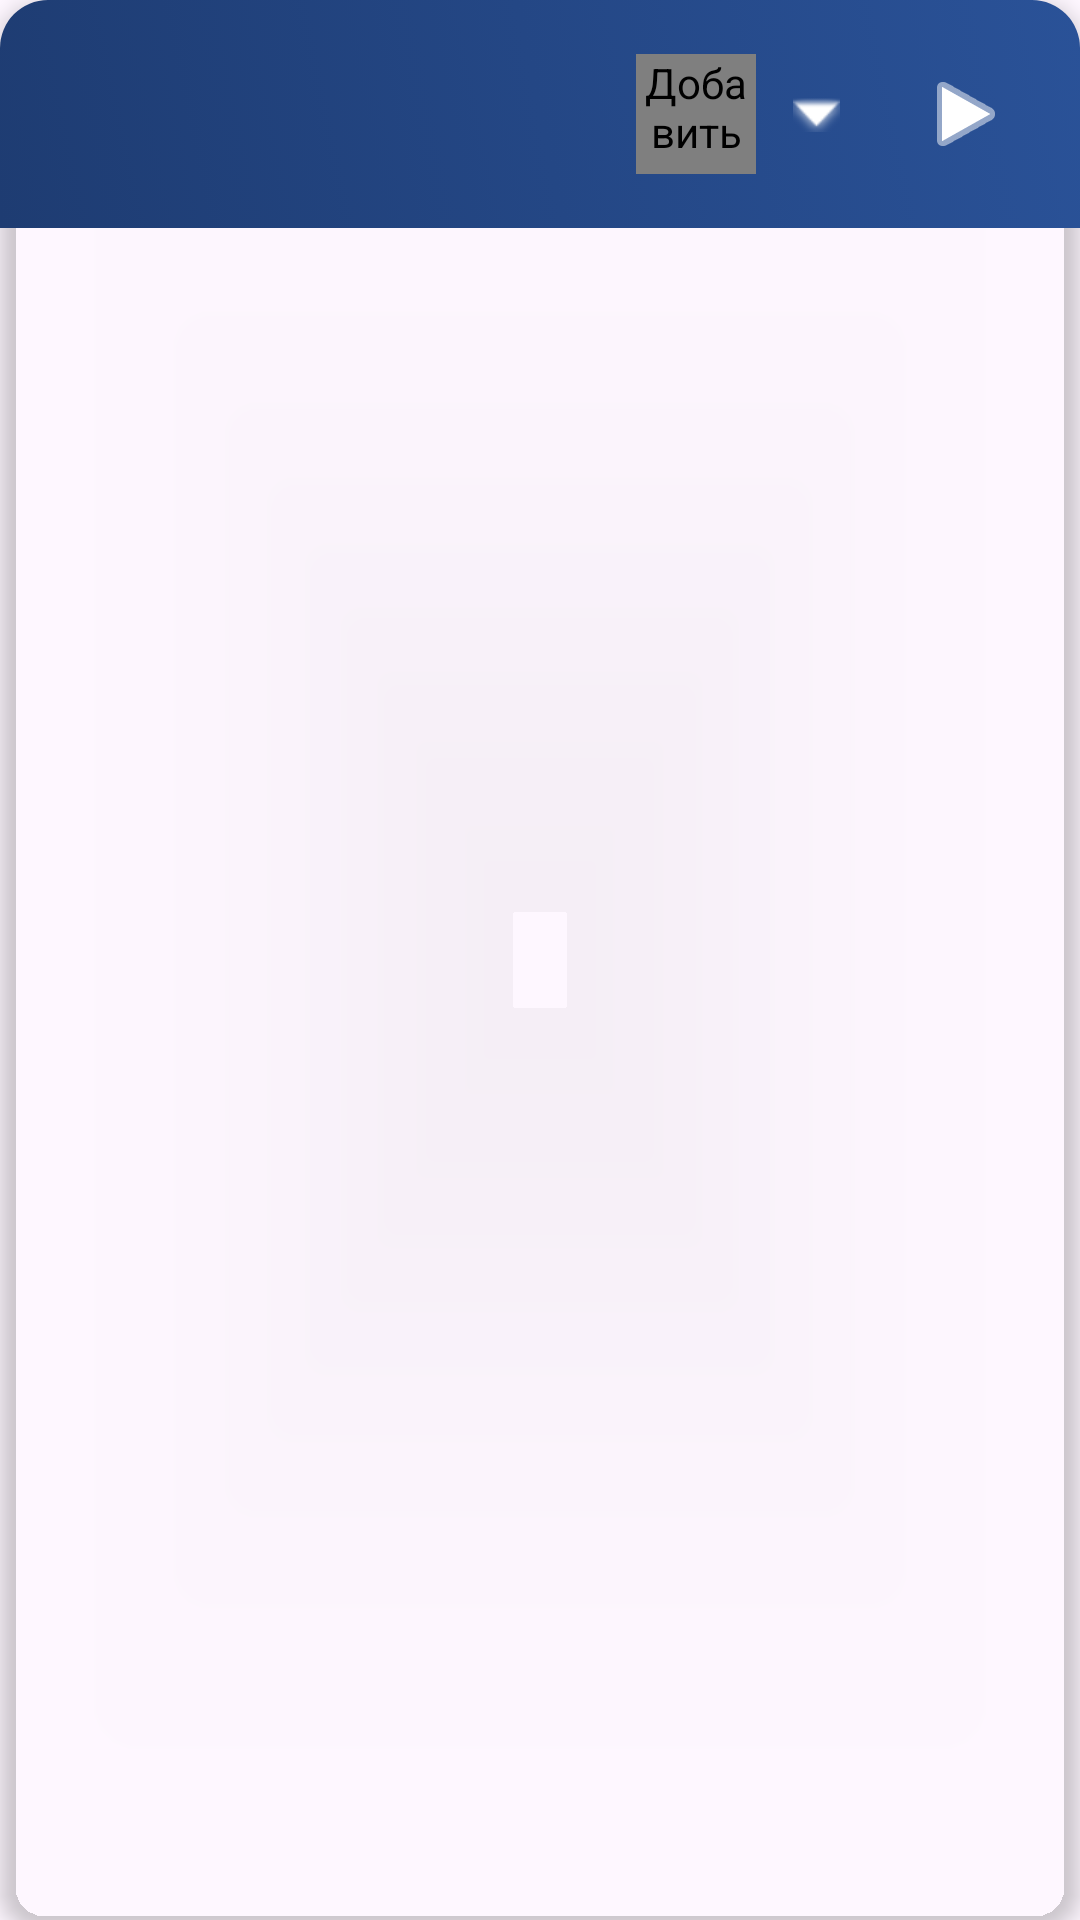

Named icons in this screenshot (1080w x 1920h) and their bounding boxes, BBox(x1, y1, x2, y2):
Воспроизведение: BBox(937, 82, 995, 146)
Развернуть текст: BBox(793, 99, 840, 130)
